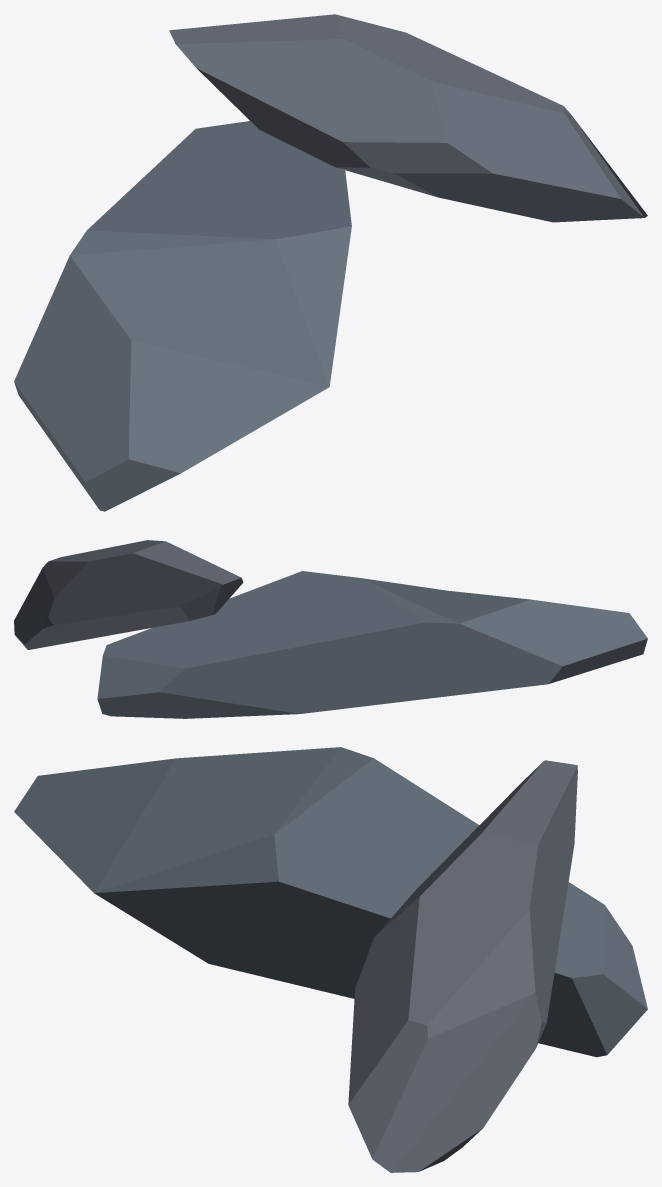
File: Rocks_Sharp_m_02.fbx
The picture shows the model from 3 angles, top to bottom: view 1: azimuth 30°, elevation 25°; view 2: azimuth 150°, elevation 25°; view 3: azimuth 270°, elevation 25°; orthographic projection. The views are drawn at different scales.
Parts seen in each view (by area): view 1: Rocks_Sharp_m_02; view 2: Rocks_Sharp_m_02; view 3: Rocks_Sharp_m_02.
Part boxes in pixels (x1,y1,x2,y2): Rocks_Sharp_m_02: (14, 14, 647, 511); Rocks_Sharp_m_02: (14, 540, 647, 718); Rocks_Sharp_m_02: (14, 747, 647, 1172).
Bounding box in the file's own units: 196 × 57.31 × 146.
